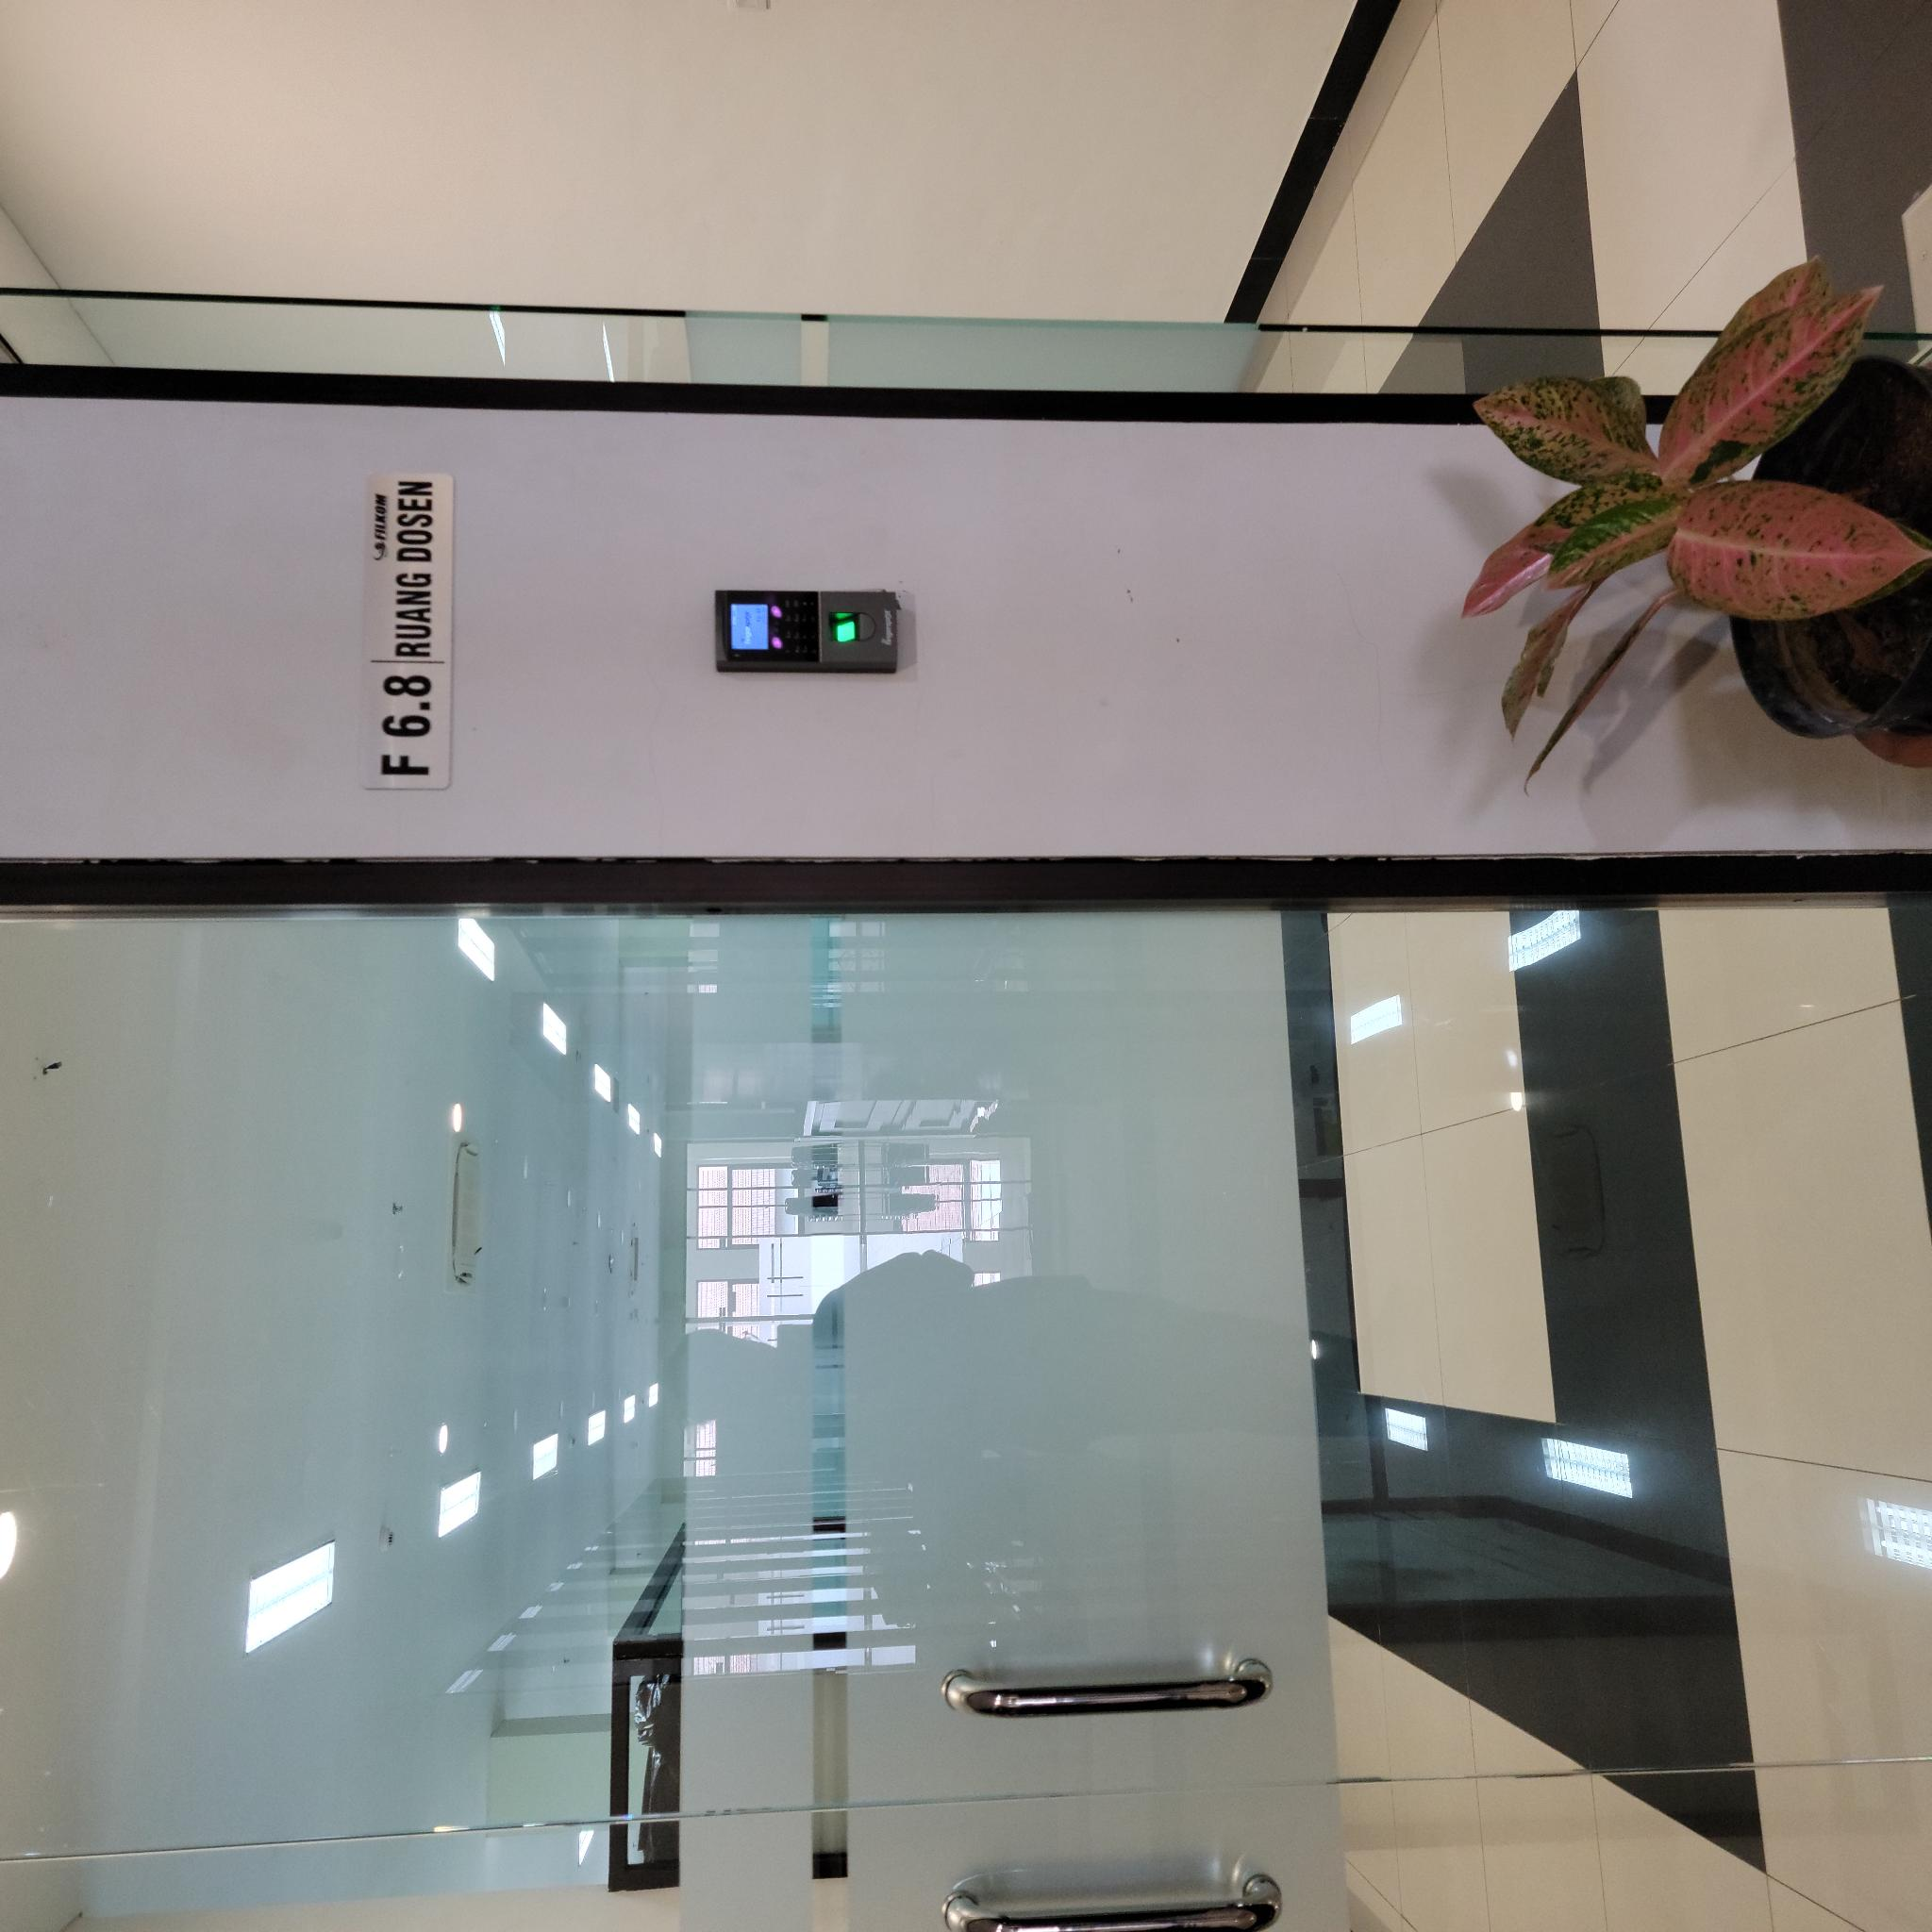plate: (1139, 359, 1460, 455)
